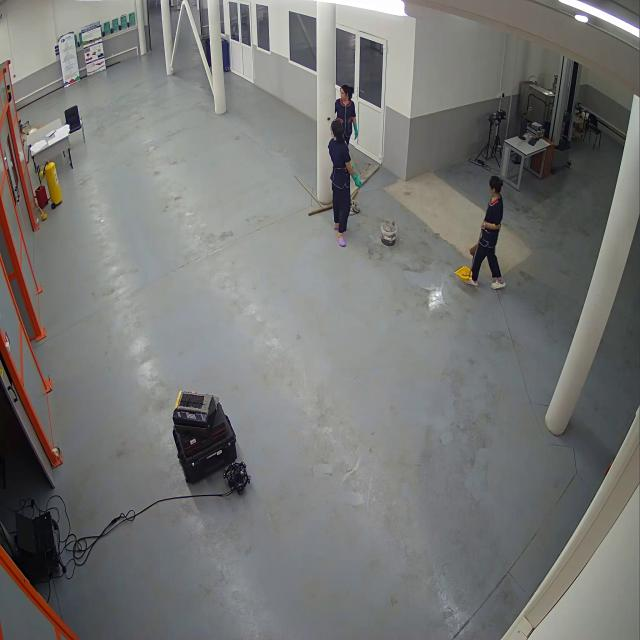NO-Hardhat: (338, 78, 354, 96), (487, 176, 504, 189), (332, 120, 344, 132)
Person: (465, 173, 509, 291), (327, 119, 361, 249), (335, 84, 360, 152)
